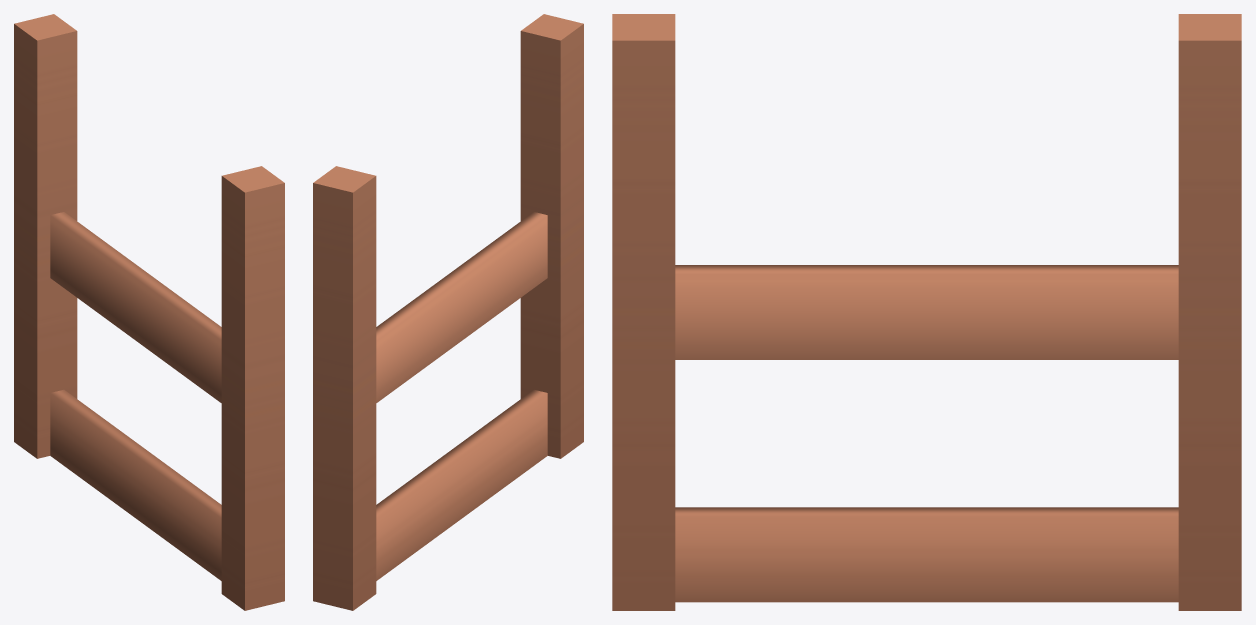
File: poles-horizontal.fbx
The picture shows the model from 3 angles, left to right: view 1: azimuth 30°, elevation 25°; view 2: azimuth 150°, elevation 25°; view 3: azimuth 270°, elevation 25°; orthographic projection. The views are drawn at different scales.
Parts seen in each view (by area): view 1: poles-horizontal; view 2: poles-horizontal; view 3: poles-horizontal.
Boxes of the visible parts, left/top/right/bottom form: poles-horizontal: left=14, top=14, right=284, bottom=610; poles-horizontal: left=313, top=14, right=583, bottom=610; poles-horizontal: left=612, top=14, right=1241, bottom=610.
Bounding box in the file's own units: 10 × 100 × 100.
Materials: 1 (1 with a texture image).
